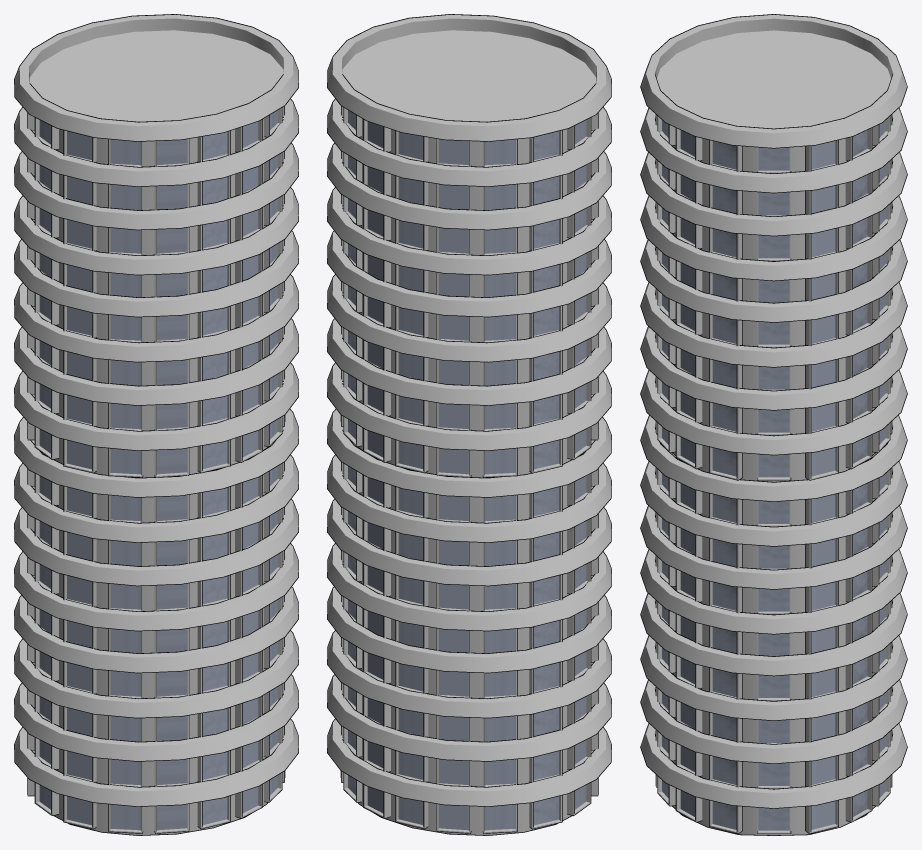
Rendered from Building5.fbx.
3 views of the same model, side by side, from view 1: azimuth 30°, elevation 25°; view 2: azimuth 150°, elevation 25°; view 3: azimuth 270°, elevation 25° (orthographic).
Parts seen in each view (by area): view 1: Building5; view 2: Building5; view 3: Building5.
Boxes of the visible parts, bbox=[...] form: Building5: bbox=[14, 14, 298, 835]; Building5: bbox=[327, 14, 611, 835]; Building5: bbox=[640, 14, 907, 835].
Bounding box in the file's own units: 286 × 769 × 262.
